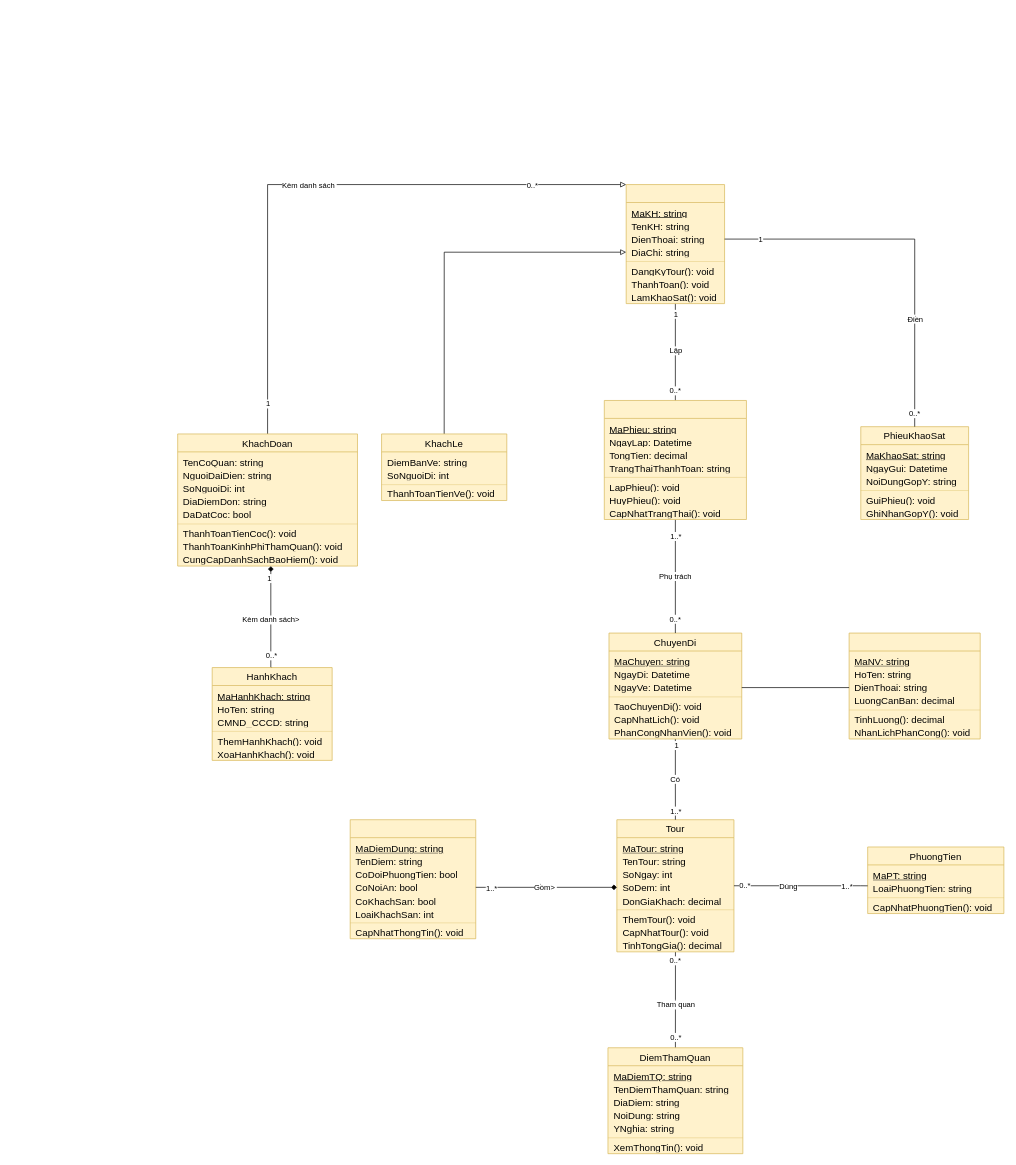
The diagram is 1016 pixels wide and 1165 high, and some of its shapes have lost their labels. The shapes that lost their labels are listed below. From the top down, each one's box as (x1, y1, x2, y2) in pixels, then its label:
(625, 184, 725, 304): KhachHang
(604, 400, 746, 520): PhieuDangKy
(848, 632, 980, 739): NhanVien
(349, 819, 476, 939): DiemDungChan
